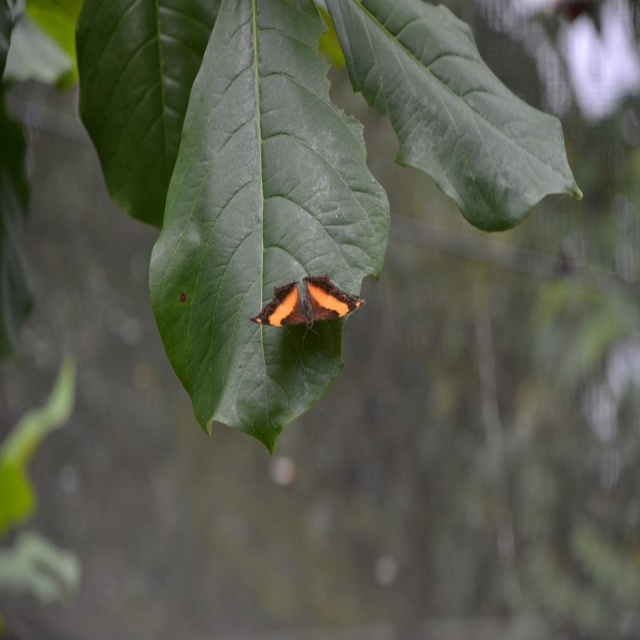Butterfly: (264, 253, 362, 344)
